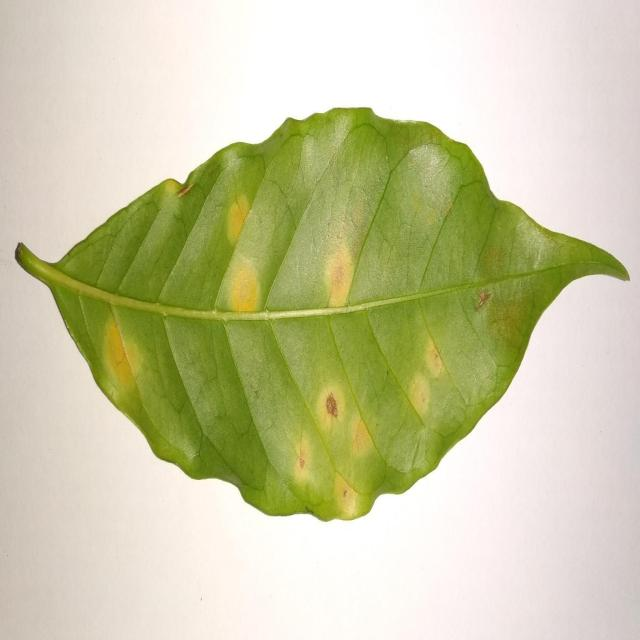rust: (397, 326, 454, 428), (102, 314, 153, 391), (218, 256, 273, 312), (326, 236, 363, 307), (318, 370, 355, 434), (333, 474, 371, 519), (227, 191, 252, 247)
